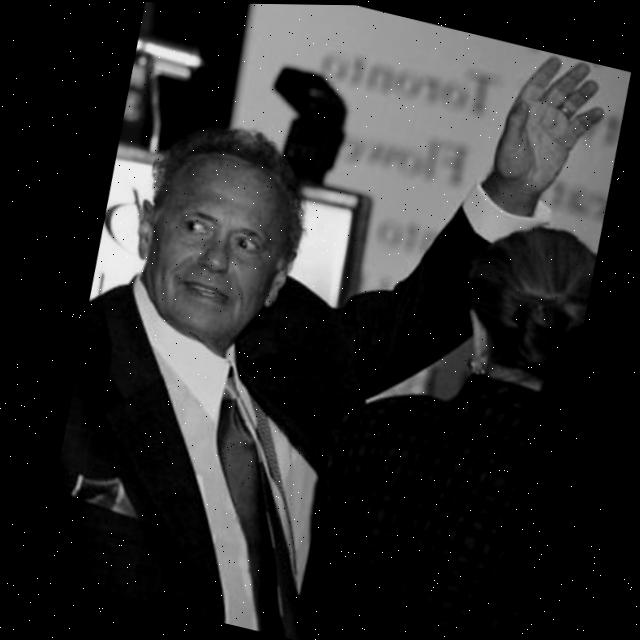face: (109, 136, 312, 370)
